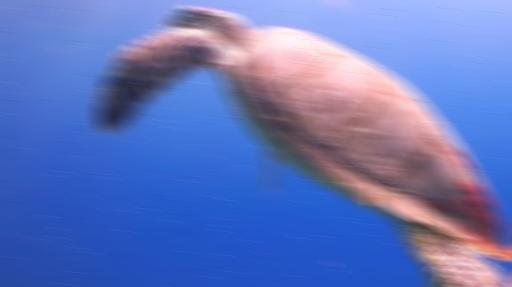Fish: (96, 8, 511, 286)
